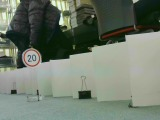speed_20: (22, 48, 42, 68)
